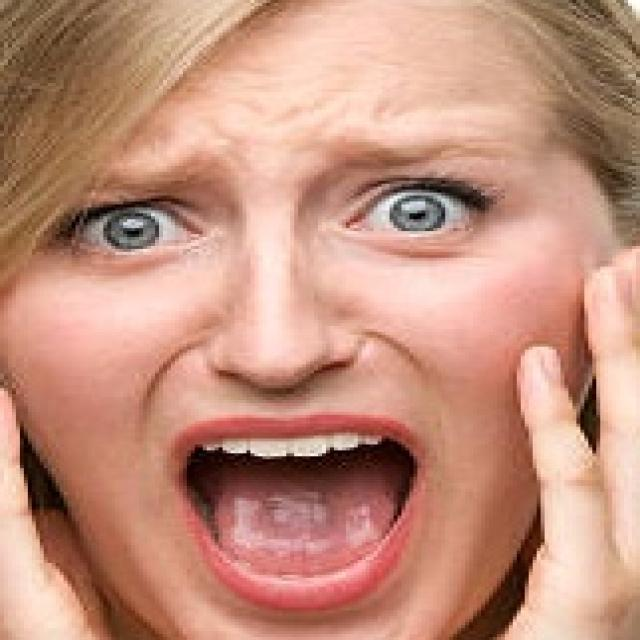Anxiety: (4, 0, 631, 637)
